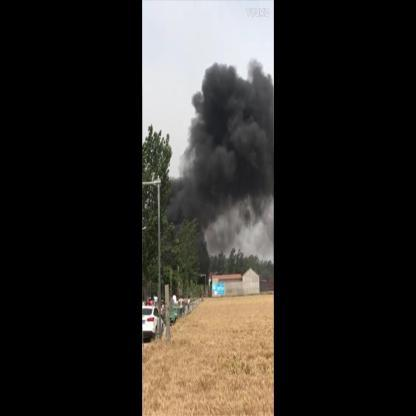smoke: (184, 58, 274, 172), (171, 175, 272, 256)
